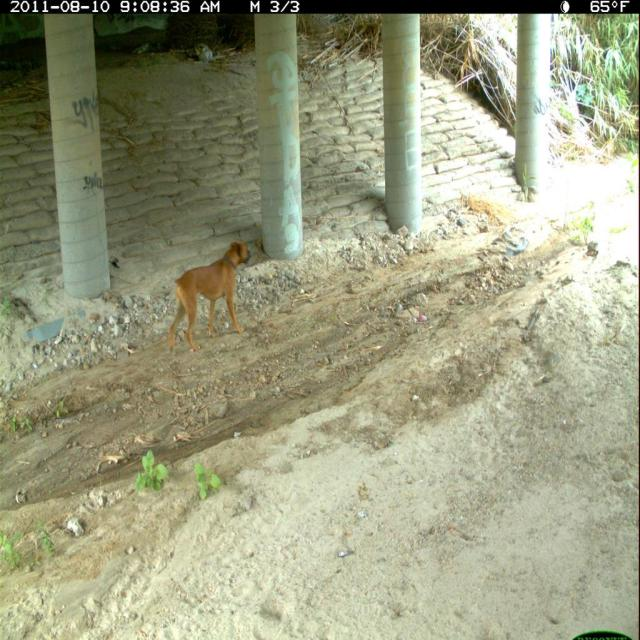dog: (161, 236, 257, 360)
